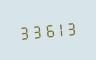one: (54, 19, 65, 38)
six: (42, 20, 53, 39)
three: (18, 22, 29, 41), (30, 21, 41, 40), (66, 18, 77, 37)
